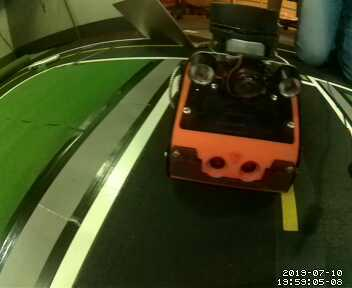pheeno: (164, 4, 302, 198)
